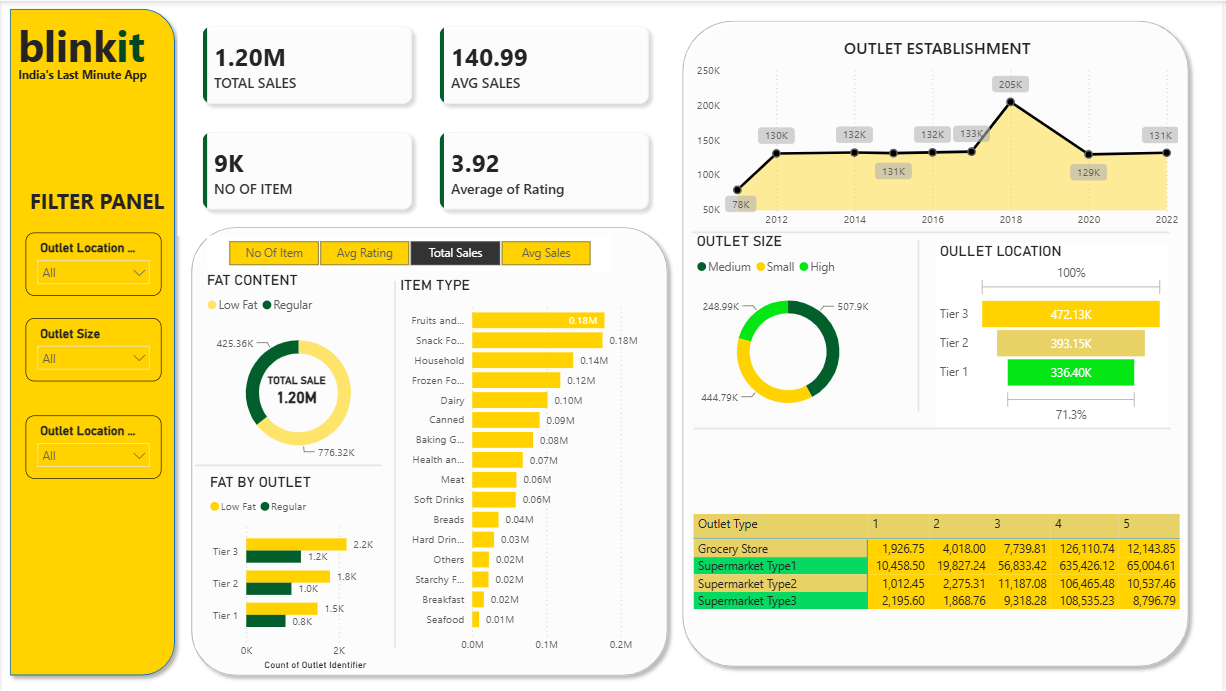

This screenshot's page, from the dashboard's own definition file:
{"tool":"powerbi","page":{"name":"Page 1","canvas":[1400,800],"ordinal":0},"visuals":[{"type":"shape","box":[0,0,207.5,783.1],"z":0},{"type":"textbox","box":[13.5,13.5,187.9,106.7],"z":1000},{"type":"textbox","box":[12.8,70.6,188.3,49.2],"z":2000},{"type":"cardVisual","fields":{"Data":["Sum(BlinkIT-Grocery-Data.Sales)","Avg(BlinkIT-Grocery-Data.Sales)","BlinkIT-Grocery-Data.No Of Item","Avg(BlinkIT-Grocery-Data.Rating)"]},"box":[201.1,0,571.2,269.6],"z":3000},{"type":"shape","box":[207.5,250.3,564.8,532.7],"z":4000},{"type":"donutChart","title":"FAT CONTENT","fields":{"Category":["BlinkIT-Grocery-Data.Item Fat Content"],"Y":["Sum(BlinkIT-Grocery-Data.Sales)"]},"box":[231.1,310.2,220.4,231.1],"z":5000},{"type":"slicer","fields":{"Values":["Metrics.Metrics"]},"box":[235.3,269.6,464.3,40.7],"z":6000},{"type":"card","title":"TOTAL SALE","fields":{"Values":["Sum(BlinkIT-Grocery-Data.Sales)"]},"box":[291,427.9,94.1,42.8],"z":7000},{"type":"clusteredBarChart","title":"FAT BY OUTLET","fields":{"Category":["BlinkIT-Grocery-Data.Outlet Location Type"],"Series":["BlinkIT-Grocery-Data.Item Fat Content"],"Y":["CountNonNull(BlinkIT-Grocery-Data.Outlet Identifier)"]},"box":[233.2,541.3,218.2,231.1],"z":8000},{"type":"shape","box":[222.5,517.8,213.9,29.9],"z":9000},{"type":"shape","box":[415.1,320.9,72.7,421.5],"z":10000},{"type":"barChart","title":"ITEM TYPE","fields":{"Category":["BlinkIT-Grocery-Data.Item Type"],"Y":["Sum(BlinkIT-Grocery-Data.Sales)"]},"box":[451.4,316.6,299.5,440.7],"z":11000},{"type":"shape","box":[772.4,12.8,599.1,759.5],"z":12000},{"type":"lineChart","title":"OUTLET ESTABLISHMENT","fields":{"Category":["BlinkIT-Grocery-Data.Outlet Establishment Year"],"Y":["Sum(BlinkIT-Grocery-Data.Sales)"]},"box":[791.6,40.7,562.7,228.9],"z":13000},{"type":"shape","box":[791.6,250.3,547.7,30],"z":14000},{"type":"donutChart","title":"OUTLET SIZE","fields":{"Category":["BlinkIT-Grocery-Data.Outlet Size"],"Y":["Sum(BlinkIT-Grocery-Data.Sales)"]},"box":[791.6,265.3,220.4,224.6],"z":15000},{"type":"shape","box":[1041.9,273.9,21.4,196.8],"z":16000},{"type":"funnel","title":"OULLET LOCATION","fields":{"Category":["BlinkIT-Grocery-Data.Outlet Location Type"],"Y":["Sum(BlinkIT-Grocery-Data.Sales)"]},"box":[1071.9,278.1,267.4,211.8],"z":17000},{"type":"shape","box":[793.8,475,547.7,29.9],"z":18000},{"type":"pivotTable","fields":{"Rows":["BlinkIT-Grocery-Data.Outlet Type"],"Columns":["BlinkIT-Grocery-Data.Rating"],"Values":["Sum(BlinkIT-Grocery-Data.Sales)"]},"box":[789.5,584.1,571.2,199],"z":19000},{"type":"slicer","fields":{"Values":["BlinkIT-Grocery-Data.Outlet Location Type"]},"box":[27.8,265.3,156.2,72.7],"z":19001},{"type":"slicer","fields":{"Values":["BlinkIT-Grocery-Data.Outlet Size"]},"box":[27.8,363.7,156.2,72.7],"z":19002},{"type":"slicer","fields":{"Values":["BlinkIT-Grocery-Data.Outlet Location Type"]},"box":[27.8,475,156.2,72.7],"z":19003},{"type":"textbox","box":[27.8,207.5,173.3,42.8],"z":19004}]}

Visuals, with their boxes in screenshot pixels (x1, y1, x2, y2), scaled from the page's 1400x800 canvas onto the 1226x691 screenshot:
shape: pyautogui.locateOnScreen(0, 0, 182, 676)
textbox: pyautogui.locateOnScreen(12, 12, 176, 104)
textbox: pyautogui.locateOnScreen(11, 61, 176, 103)
cardVisual - Sum(BlinkIT-Grocery-Data.Sales) x Avg(BlinkIT-Grocery-Data.Sales): pyautogui.locateOnScreen(176, 0, 676, 233)
shape: pyautogui.locateOnScreen(182, 216, 676, 676)
"FAT CONTENT" donutChart: pyautogui.locateOnScreen(202, 268, 395, 468)
slicer - Metrics.Metrics: pyautogui.locateOnScreen(206, 233, 613, 268)
"TOTAL SALE" card: pyautogui.locateOnScreen(255, 370, 337, 407)
"FAT BY OUTLET" clusteredBarChart: pyautogui.locateOnScreen(204, 468, 395, 667)
shape: pyautogui.locateOnScreen(195, 447, 382, 473)
shape: pyautogui.locateOnScreen(364, 277, 427, 641)
"ITEM TYPE" barChart: pyautogui.locateOnScreen(395, 273, 658, 654)
shape: pyautogui.locateOnScreen(676, 11, 1201, 667)
"OUTLET ESTABLISHMENT" lineChart: pyautogui.locateOnScreen(693, 35, 1186, 233)
shape: pyautogui.locateOnScreen(693, 216, 1173, 242)
"OUTLET SIZE" donutChart: pyautogui.locateOnScreen(693, 229, 886, 423)
shape: pyautogui.locateOnScreen(912, 237, 931, 407)
"OULLET LOCATION" funnel: pyautogui.locateOnScreen(939, 240, 1173, 423)
shape: pyautogui.locateOnScreen(695, 410, 1175, 436)
pivotTable - BlinkIT-Grocery-Data.Outlet Type x BlinkIT-Grocery-Data.Rating: pyautogui.locateOnScreen(691, 505, 1192, 676)
slicer - BlinkIT-Grocery-Data.Outlet Location Type: pyautogui.locateOnScreen(24, 229, 161, 292)
slicer - BlinkIT-Grocery-Data.Outlet Size: pyautogui.locateOnScreen(24, 314, 161, 377)
slicer - BlinkIT-Grocery-Data.Outlet Location Type: pyautogui.locateOnScreen(24, 410, 161, 473)
textbox: pyautogui.locateOnScreen(24, 179, 176, 216)
